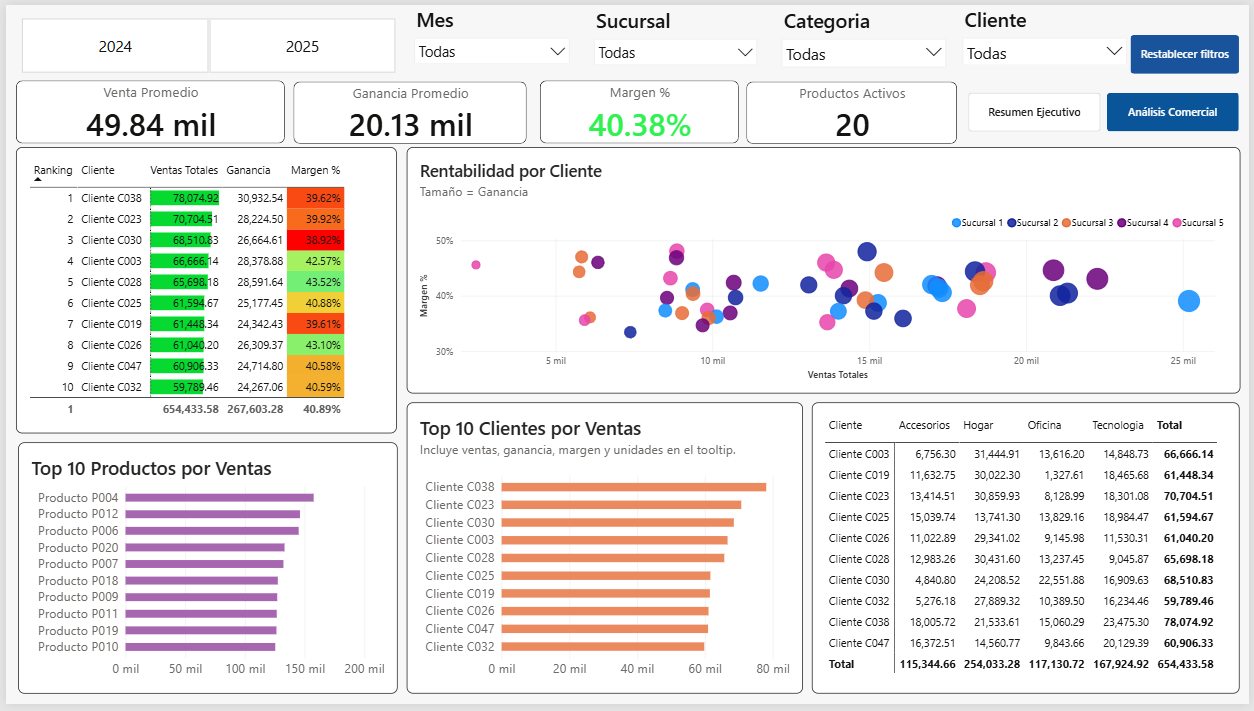

This screenshot's page, from the dashboard's own definition file:
{"tool":"powerbi","page":{"name":"Análisis Comercial","canvas":[1600,900],"ordinal":1},"visuals":[{"type":"slicer","fields":{"Values":["Dim_Calendario.Año"]},"box":[0,15,520,73.3],"z":0},{"type":"slicer","fields":{"Values":["Dim_Calendario.Mes"]},"box":[520,1.7,210,88.3],"z":1000},{"type":"slicer","fields":{"Values":["Dim_Sucursales.Sucursal"]},"box":[751.7,3.3,220,86.7],"z":2000},{"type":"slicer","fields":{"Values":["Dim_Productos.Categoria"]},"box":[993.3,3.3,221.7,86.7],"z":3000},{"type":"slicer","fields":{"Values":["Dim_Clientes.Cliente"]},"box":[1225,1.7,221.7,75],"z":4000},{"type":"cardVisual","fields":{"Data":["KPIs.Venta Promedio Cliente"]},"box":[13.3,96.7,346.7,81.7],"z":5000},{"type":"cardVisual","fields":{"Data":["KPIs.Ganancia Promedio"]},"box":[370,98.3,300,80],"z":6000},{"type":"cardVisual","fields":{"Data":["KPIs.Margen %"]},"box":[686.7,96.7,256.7,81.7],"z":7000},{"type":"cardVisual","fields":{"Data":["CountNonNull(Dim_Productos.Producto)"]},"box":[953.3,98.3,271.7,80],"z":8000},{"type":"barChart","title":"Top 10 Clientes por Ventas","fields":{"Category":["Dim_Clientes.Cliente"],"Y":["Medidas Base.Ventas Totales"]},"box":[515,511.7,510,375],"z":9000},{"type":"barChart","title":"Top 10 Productos por Ventas","fields":{"Category":["Dim_Productos.Producto"],"Y":["Medidas Base.Ventas Totales"]},"box":[15,563.3,488.3,323.3],"z":10000},{"type":"pivotTable","fields":{"Columns":["Dim_Productos.Categoria"],"Rows":["Dim_Clientes.Cliente"],"Values":["Medidas Base.Ventas Totales"]},"box":[1036.7,511.7,550,375],"z":11000},{"type":"tableEx","fields":{"Values":["Medidas Analiticas.Ranking Clientes","Dim_Clientes.Cliente","Medidas Base.Ventas Totales","Medidas Base.Ganancia","KPIs.Margen %"]},"box":[13.3,183.3,490,368.3],"z":12000},{"type":"scatterChart","title":"Rentabilidad por Cliente","fields":{"Category":["Dim_Clientes.Cliente"],"Series":["Dim_Sucursales.Sucursal"],"Size":["Medidas Base.Ganancia"],"X":["Medidas Base.Ventas Totales"],"Y":["KPIs.Margen %"]},"box":[515,183.3,1073.3,316.7],"z":13000},{"type":"pageNavigator","box":[1238.3,113.3,348.3,50],"z":14000},{"type":"actionButton","box":[1446.7,38.3,140,50],"z":15000}]}

Visuals, with their boxes in screenshot pixels (x1, y1, x2, y2), scaled from the page's 1600x900 canvas onto the 1254x711 screenshot:
slicer - Dim_Calendario.Año: 0 12 408 70
slicer - Dim_Calendario.Mes: 408 1 572 71
slicer - Dim_Sucursales.Sucursal: 589 3 762 71
slicer - Dim_Productos.Categoria: 778 3 952 71
slicer - Dim_Clientes.Cliente: 960 1 1134 61
cardVisual - KPIs.Venta Promedio Cliente: 10 76 282 141
cardVisual - KPIs.Ganancia Promedio: 290 78 525 141
cardVisual - KPIs.Margen %: 538 76 739 141
cardVisual - CountNonNull(Dim_Productos.Producto): 747 78 960 141
"Top 10 Clientes por Ventas" barChart: 404 404 803 700
"Top 10 Productos por Ventas" barChart: 12 445 394 700
pivotTable - Dim_Productos.Categoria x Dim_Clientes.Cliente: 813 404 1244 700
tableEx - Medidas Analiticas.Ranking Clientes x Dim_Clientes.Cliente: 10 145 394 436
"Rentabilidad por Cliente" scatterChart: 404 145 1245 395
pageNavigator: 971 90 1243 129
actionButton: 1134 30 1244 70
